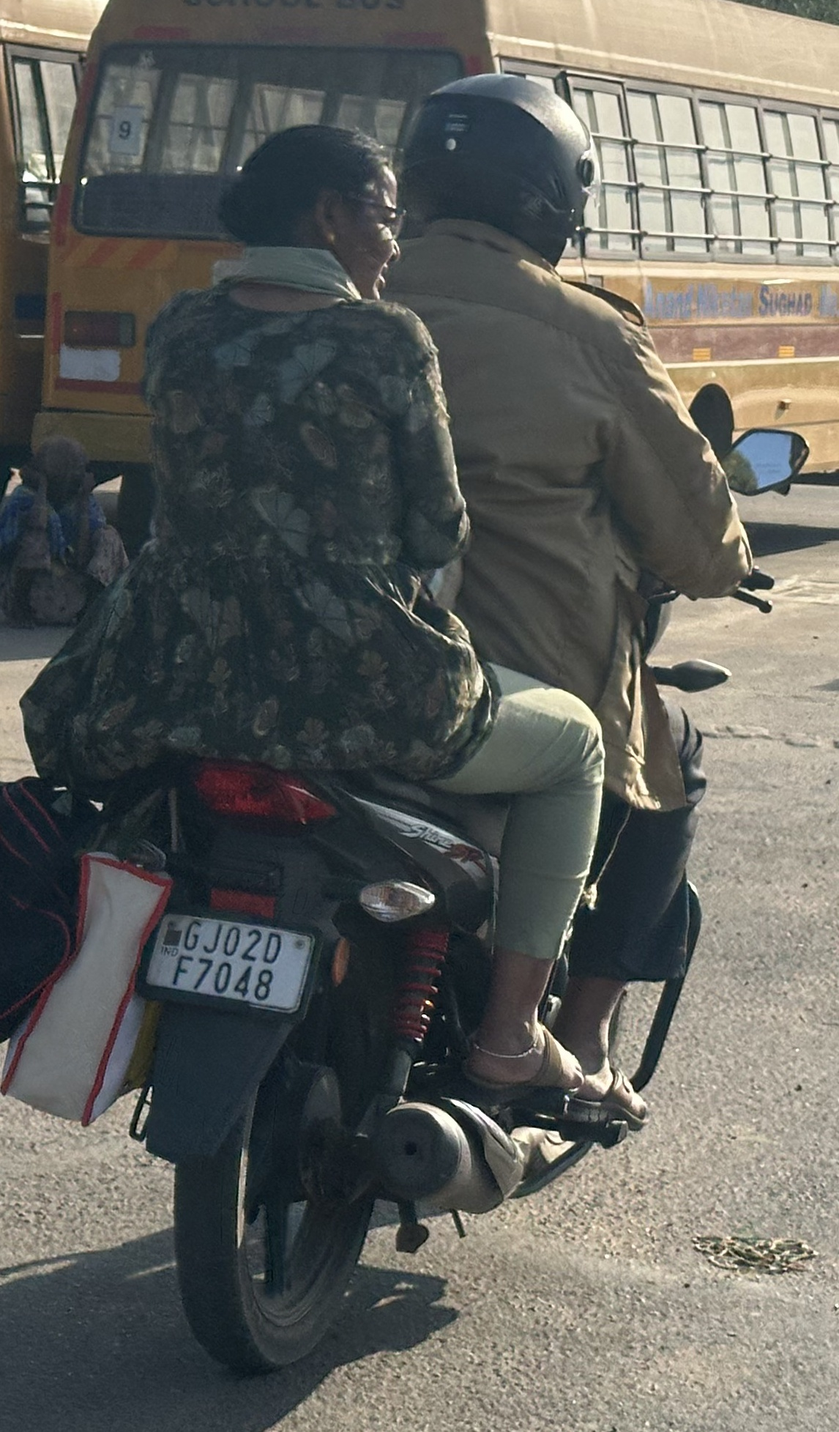BikeWithRider: (1, 59, 788, 1393)
Helmet: (382, 59, 613, 282)
NoHelmet: (196, 109, 420, 314)
